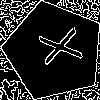X: (29, 26, 83, 70)
